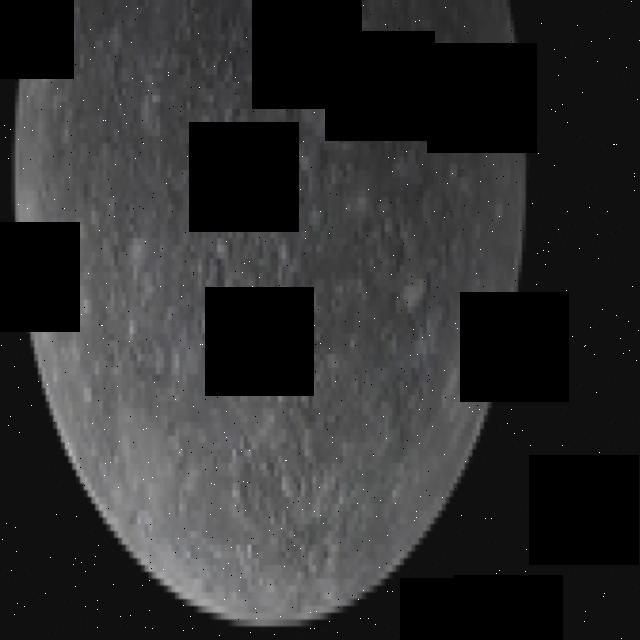Mercury: (16, 0, 530, 633)
